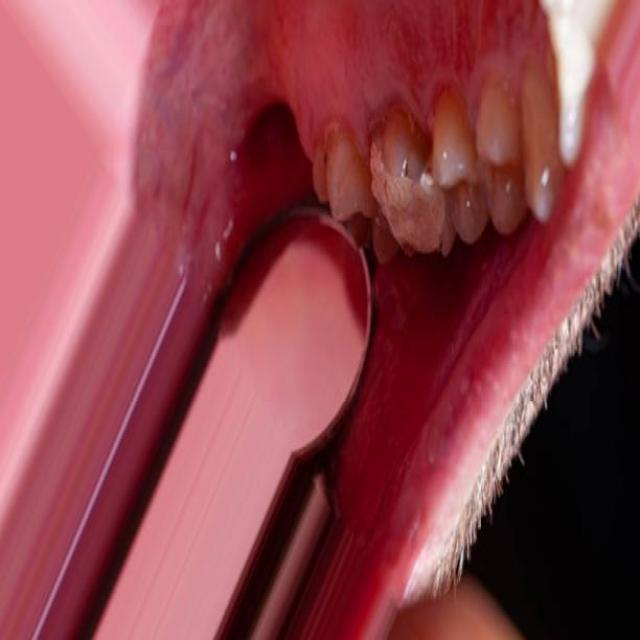caries: (366, 134, 452, 255)
